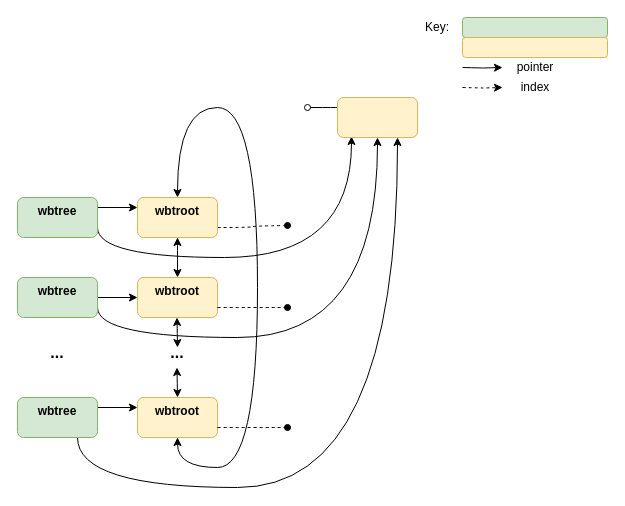
Some shapes in this 625 by 506 pixel diagram are drawn without their labels. The shapes that lost their labels are listed below. From the top down, each one's centre as x and y in pixels, then its label:
At (535,27): "Library API public record".
At (535,47): "Library private record".
At (377,117): "wbttrail".
